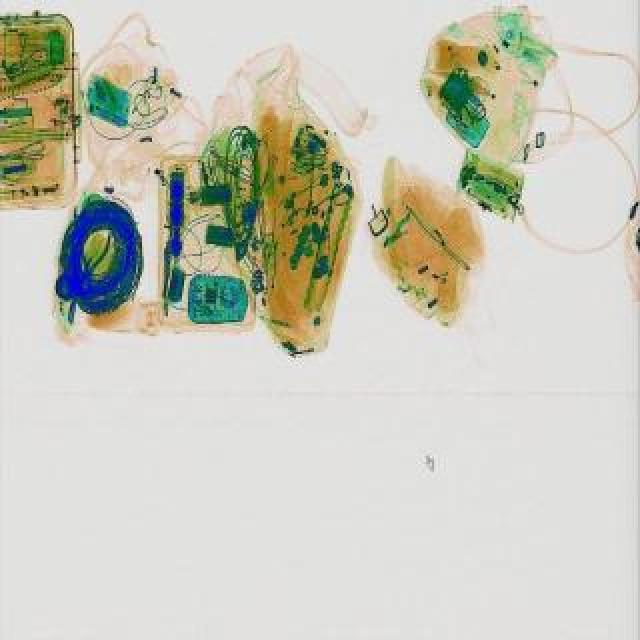wrench: (66, 230, 114, 296)
